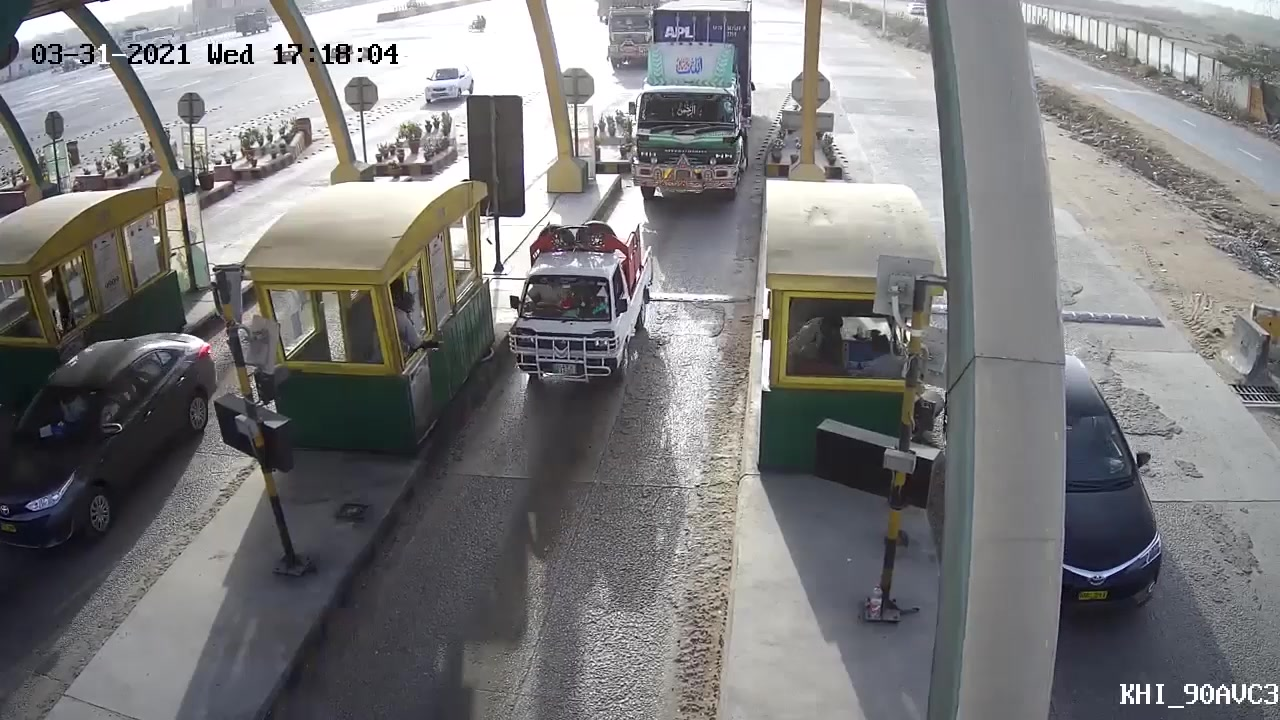F1: (504, 222, 663, 426)
